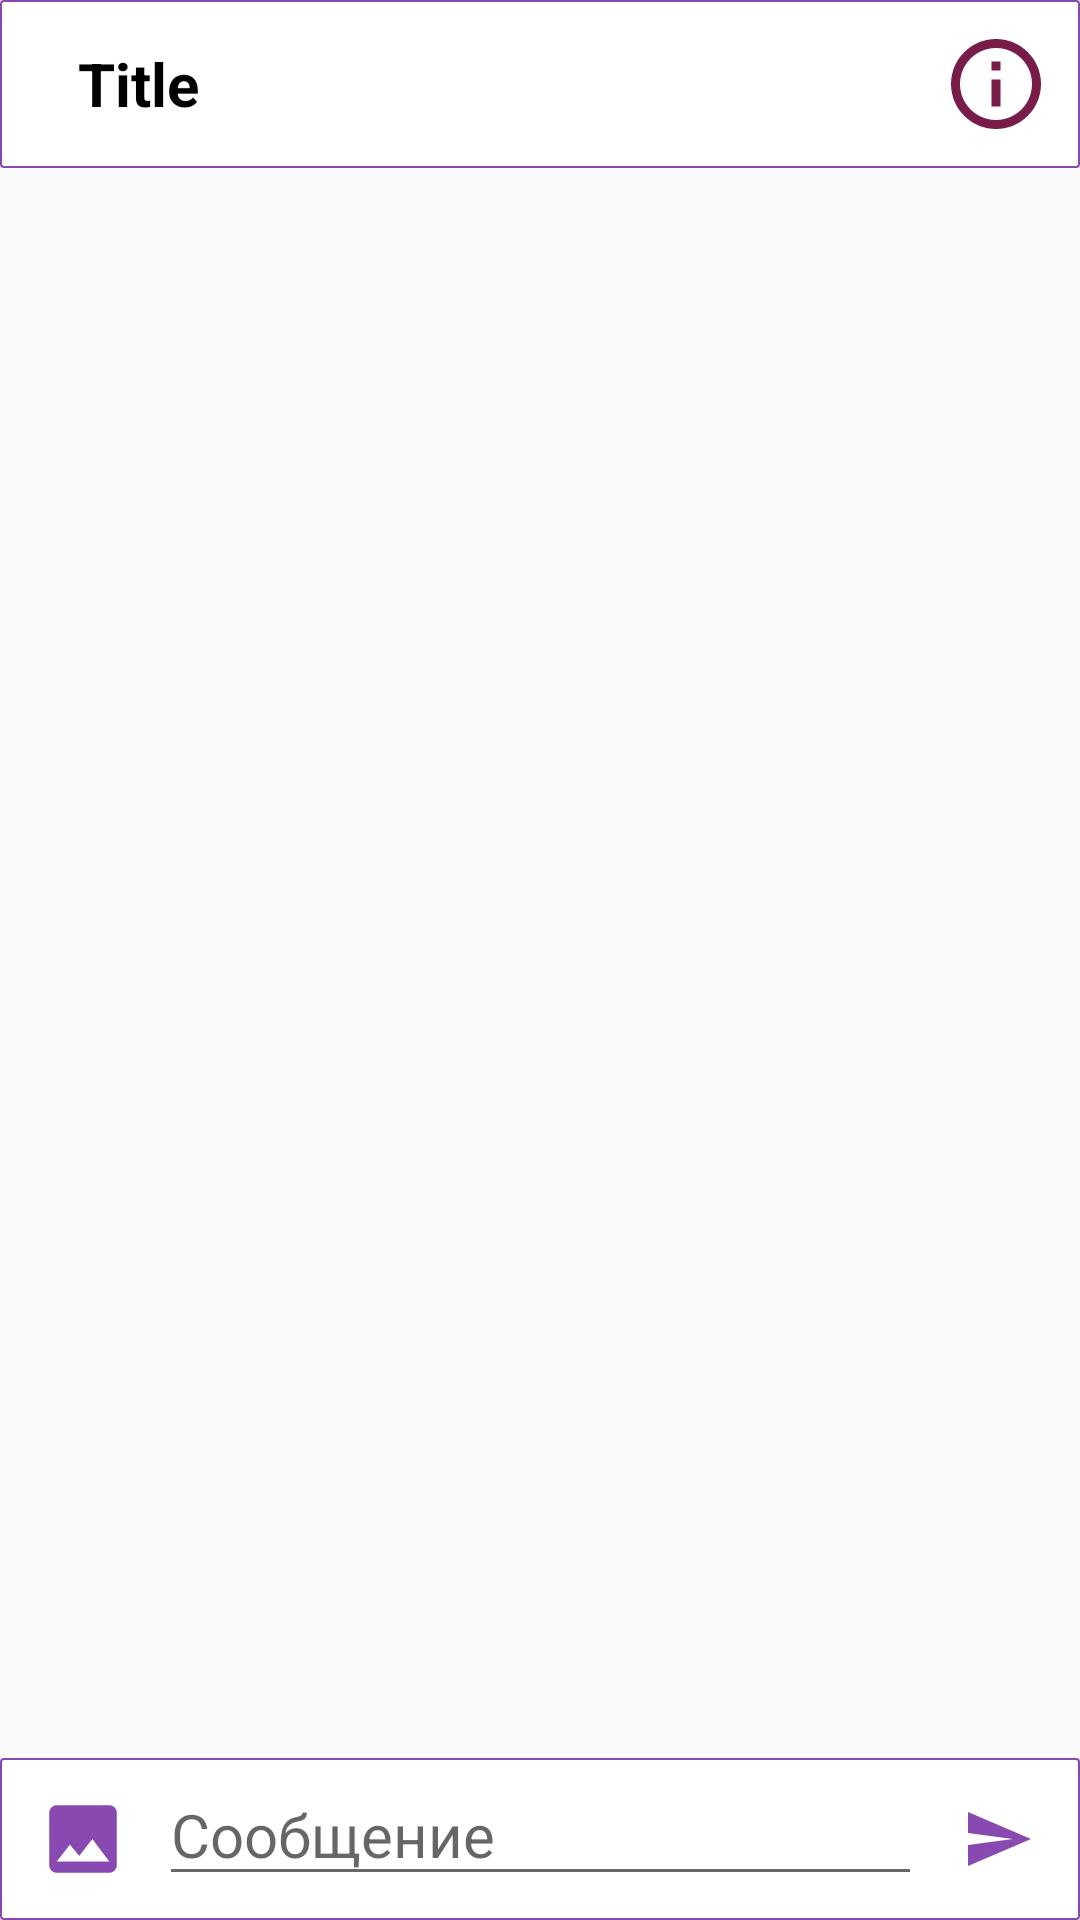

Named icons in this screenshot (1080px×1920px) and their centers, point (x, y):
info: point (996, 84)
send: point (999, 1839)
